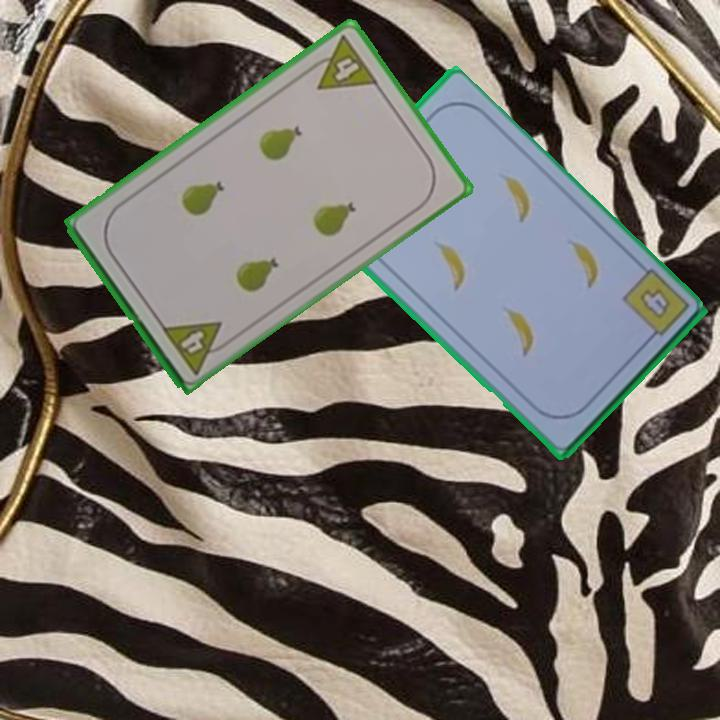4b: (635, 285, 673, 322)
4p: (302, 32, 381, 93), (157, 316, 235, 377)
